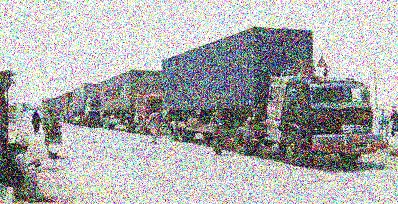truck: (162, 26, 380, 166), (100, 67, 162, 131), (71, 82, 100, 128)
